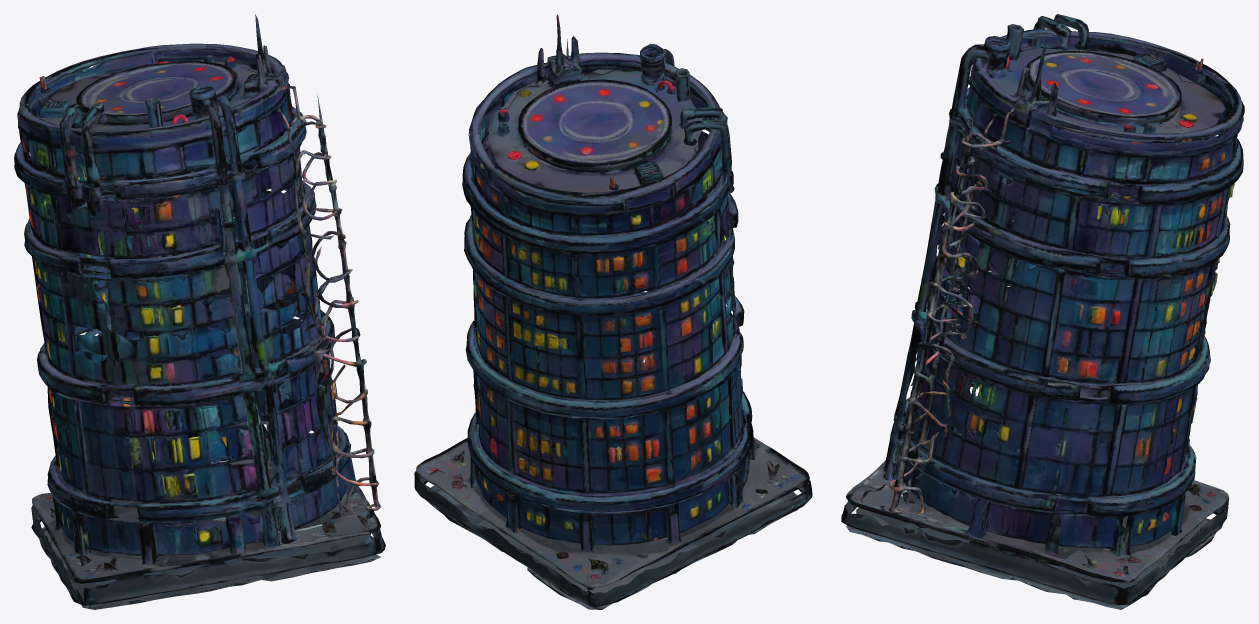
Rendered from tower-c-t60000.glb.
3 views of the same model, side by side, from view 1: azimuth 30°, elevation 25°; view 2: azimuth 150°, elevation 25°; view 3: azimuth 270°, elevation 25° (orthographic). The views are drawn at different scales.
Visible parts, largest first — view 1: world; view 2: world; view 3: world.
Boxes of the visible parts, bbox=[...] form: world: bbox=[14, 14, 385, 609]; world: bbox=[414, 14, 812, 609]; world: bbox=[841, 14, 1244, 609].
Bounding box in the file's own units: 0.5381 × 0.8244 × 0.5518.
Materials: 1 (1 with a texture image).
